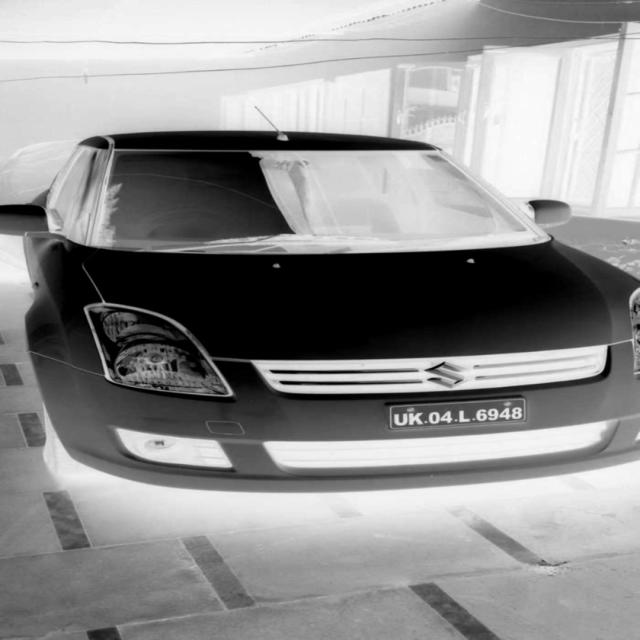Non_registered: (385, 403, 529, 431)
